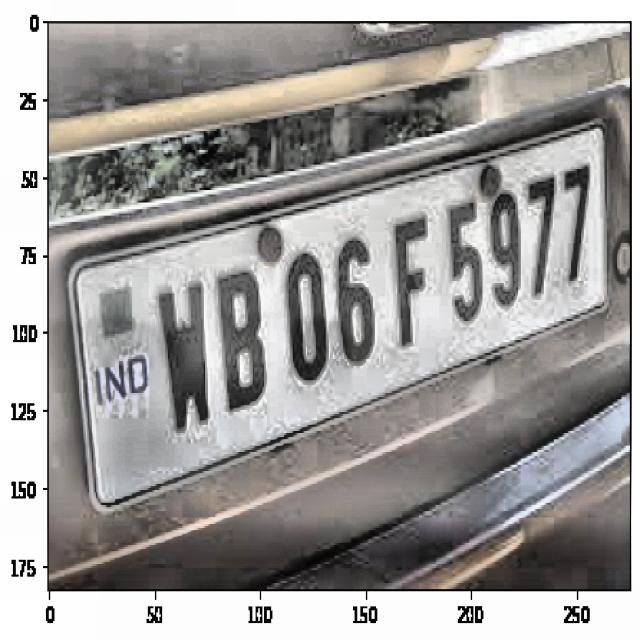license_plate: (149, 155, 597, 440)
